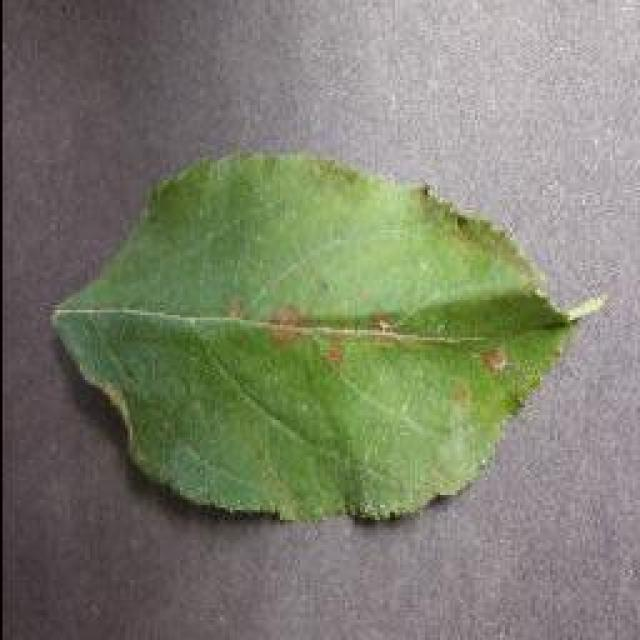apple cedar apple rust: (47, 145, 605, 525)
